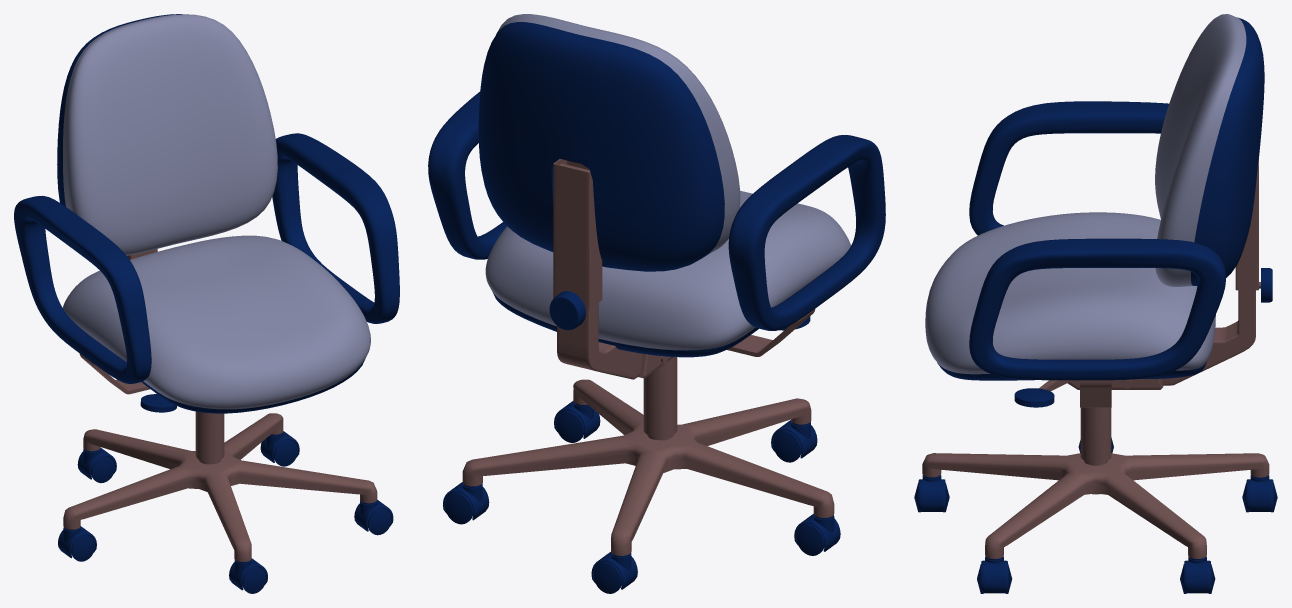
File: silla_oficina.glb
The picture shows the model from 3 angles, left to right: view 1: azimuth 30°, elevation 25°; view 2: azimuth 150°, elevation 25°; view 3: azimuth 270°, elevation 25°; orthographic projection. The views are drawn at different scales.
Visible parts, largest first — view 1: silla_oficina; view 2: silla_oficina; view 3: silla_oficina.
Part boxes in pixels (x1,y1,x2,y2): silla_oficina: (14,14,399,593); silla_oficina: (428,14,885,593); silla_oficina: (914,14,1277,593).
Size of the model in its own units: 60 by 90 by 60.
